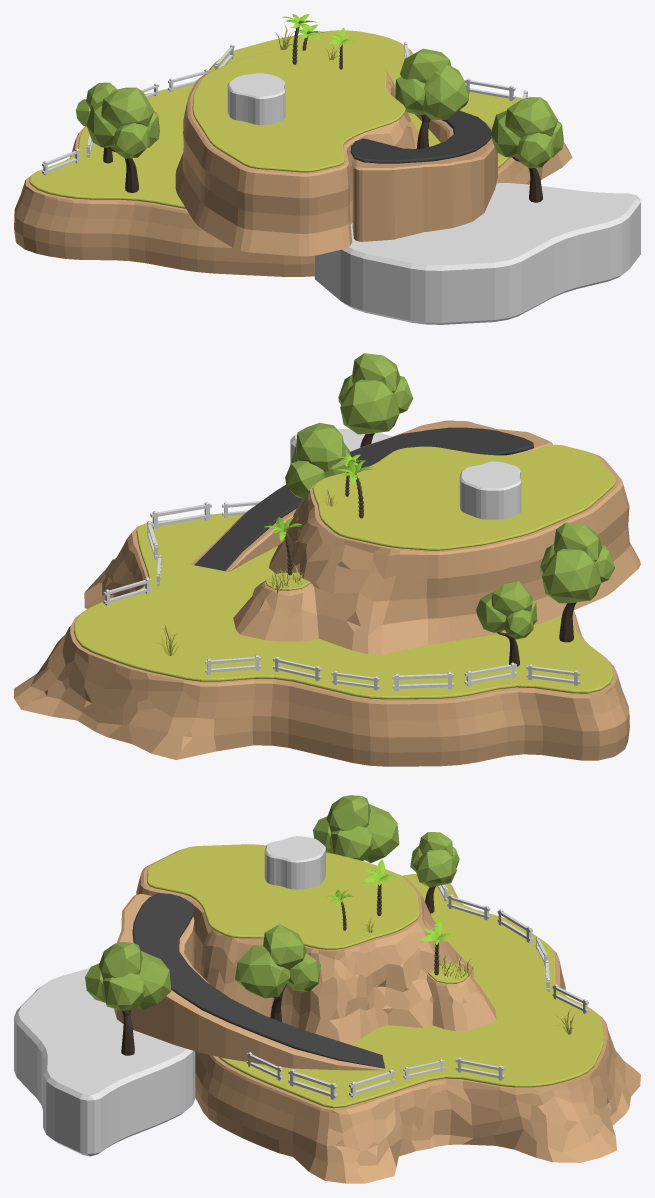
Rendered from Env.glb.
3 views of the same model, one above another, from view 1: azimuth 30°, elevation 25°; view 2: azimuth 150°, elevation 25°; view 3: azimuth 270°, elevation 25° (orthographic). The views are drawn at different scales.
Parts seen in each view (by area): view 1: Vert.019, Vert.015, Vert.021, b.001, b.002, Vert.018, Tree4.003, Tree4.004, Tree4.001, Vert.025, Vert.017, Tree4 (+1 smaller); view 2: b.001, b.002, Vert.015, Vert.021, Vert.025, Tree4.001, Tree4.003, Vert.017, Tree4.004, Tree4, Vert.018, Plane.044 (+2 smaller); view 3: b.001, b.002, Vert.019, Vert.015, Vert.021, Vert.025, Vert.018, Tree4.003, Tree4.004, Tree4.001, Vert.017, Tree4 (+1 smaller).
Boxes of the visible parts, x1,y1,x2,y2 form: Vert.019: (314, 183, 640, 324); Vert.015: (175, 68, 418, 256); Vert.021: (192, 50, 405, 172); b.001: (14, 49, 572, 276); b.002: (29, 30, 521, 208); Vert.018: (352, 114, 497, 241); Tree4.003: (490, 97, 563, 202); Tree4.004: (395, 48, 468, 149); Tree4.001: (86, 87, 159, 192); Vert.025: (350, 110, 491, 163); Vert.017: (227, 73, 285, 125); Tree4: (75, 82, 117, 163); b.001: (14, 526, 629, 766); b.002: (74, 510, 613, 699); Vert.015: (233, 453, 640, 654); Vert.021: (312, 444, 616, 550); Vert.025: (194, 427, 533, 570); Tree4.001: (540, 522, 614, 642); Tree4.003: (338, 353, 413, 447); Vert.017: (459, 461, 521, 519); Tree4.004: (285, 422, 356, 499); Tree4: (476, 581, 537, 666); Vert.018: (190, 420, 552, 571); Plane.044: (150, 502, 211, 529); b.001: (195, 883, 640, 1183); b.002: (218, 874, 603, 1108); Vert.019: (14, 968, 195, 1156); Vert.015: (136, 849, 496, 1043); Vert.021: (147, 844, 419, 949); Vert.025: (132, 893, 385, 1068); Vert.018: (114, 894, 385, 1070); Tree4.003: (85, 942, 171, 1055); Tree4.004: (235, 924, 320, 1021); Tree4.001: (313, 795, 399, 862); Vert.017: (264, 836, 325, 889); Tree4: (410, 832, 459, 913).
Size of the model in its own units: 18.05 by 6.23 by 18.59.
